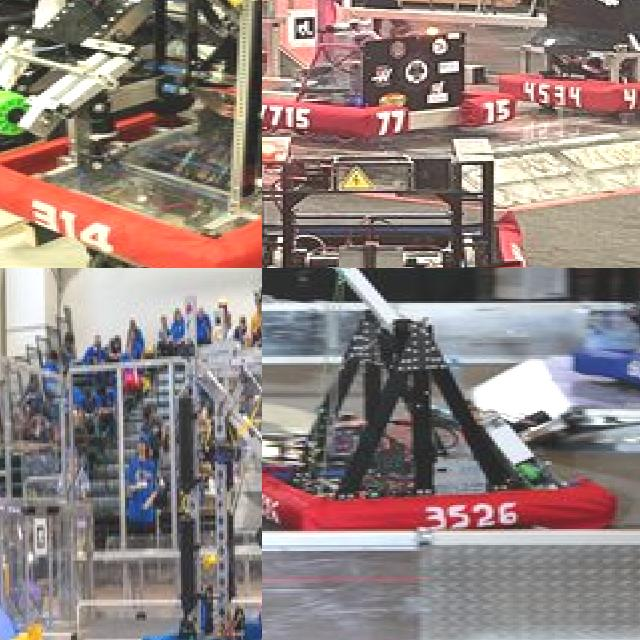FRC-Robots: (262, 268, 640, 548), (0, 0, 262, 268), (135, 313, 262, 640), (262, 157, 587, 268), (262, 0, 518, 133), (506, 0, 640, 127)
